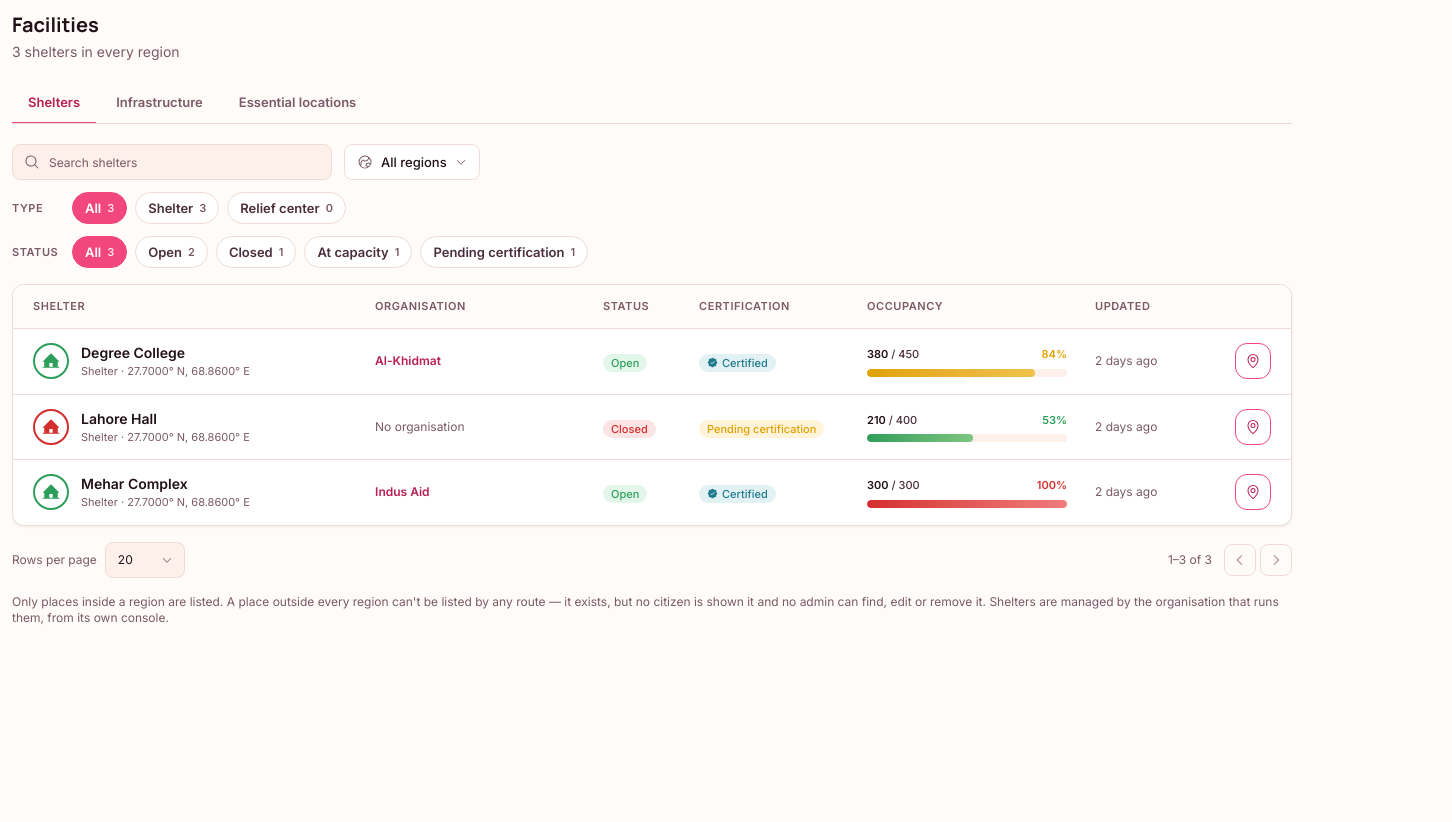
Test case: FacilitiesPage — finding things › says nothing matches, with a way back
Expected: the text "Degree College" is shown, [81,344,185,361]
Type "zzz" into the search field.
click(172, 162); type("zzz")  # box [12,144,332,180]
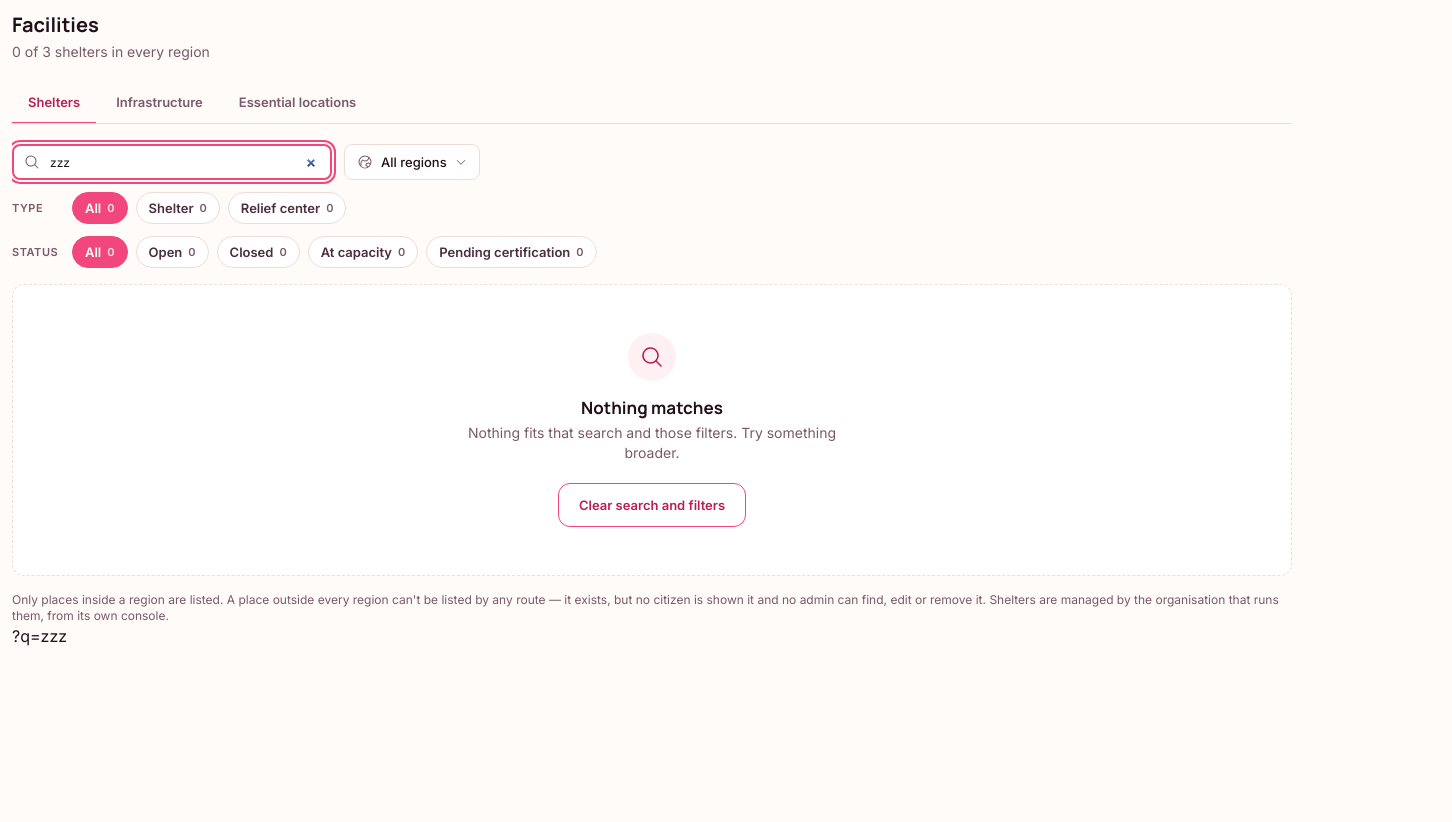
Expected: the heading "Nothing matches" is shown, [581,397,723,419]
Click the button named "Clear search and filters".
click(652, 505)  # box [558,483,746,527]
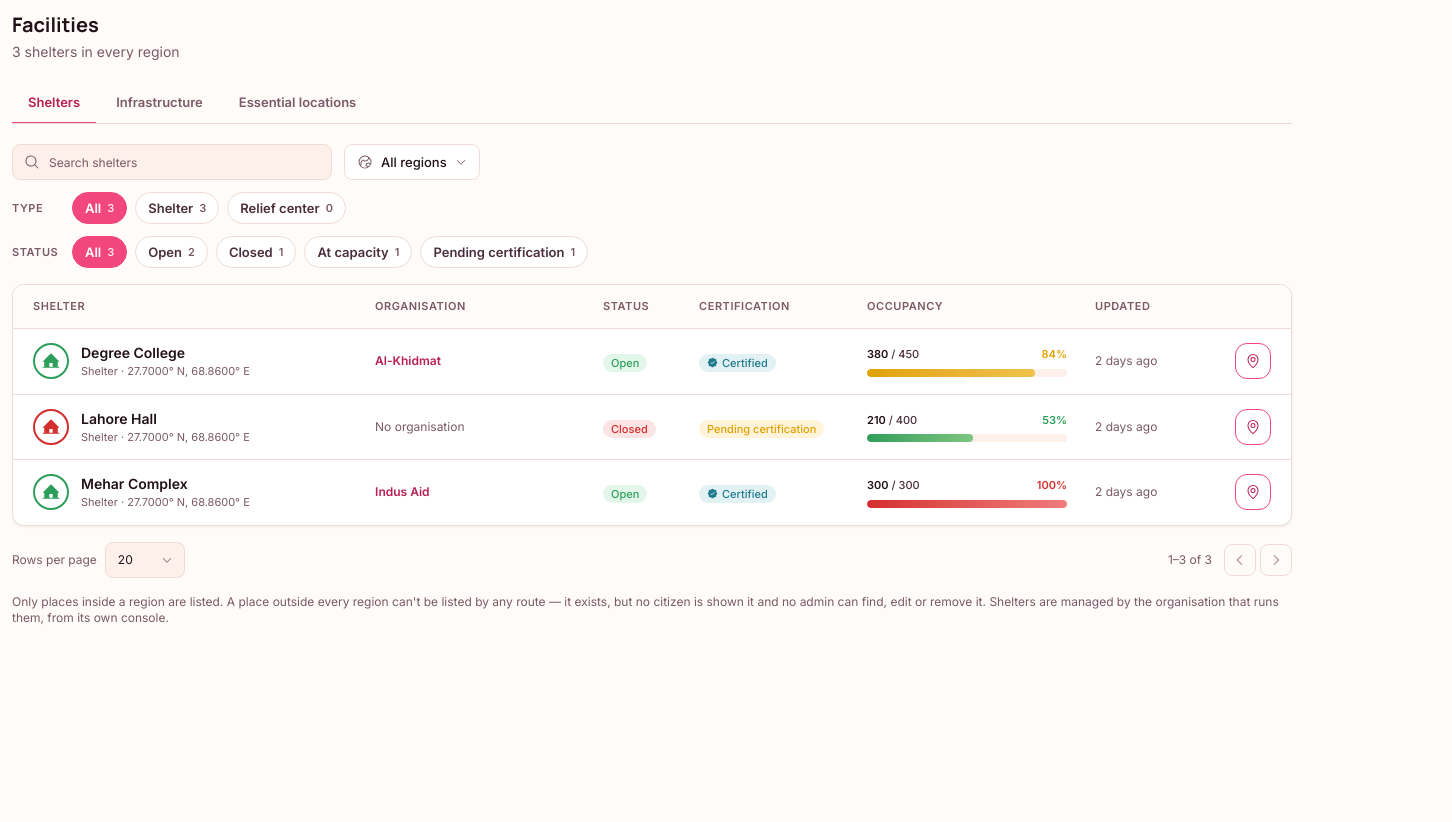
Expected: the search field is empty, [12,144,332,180]
